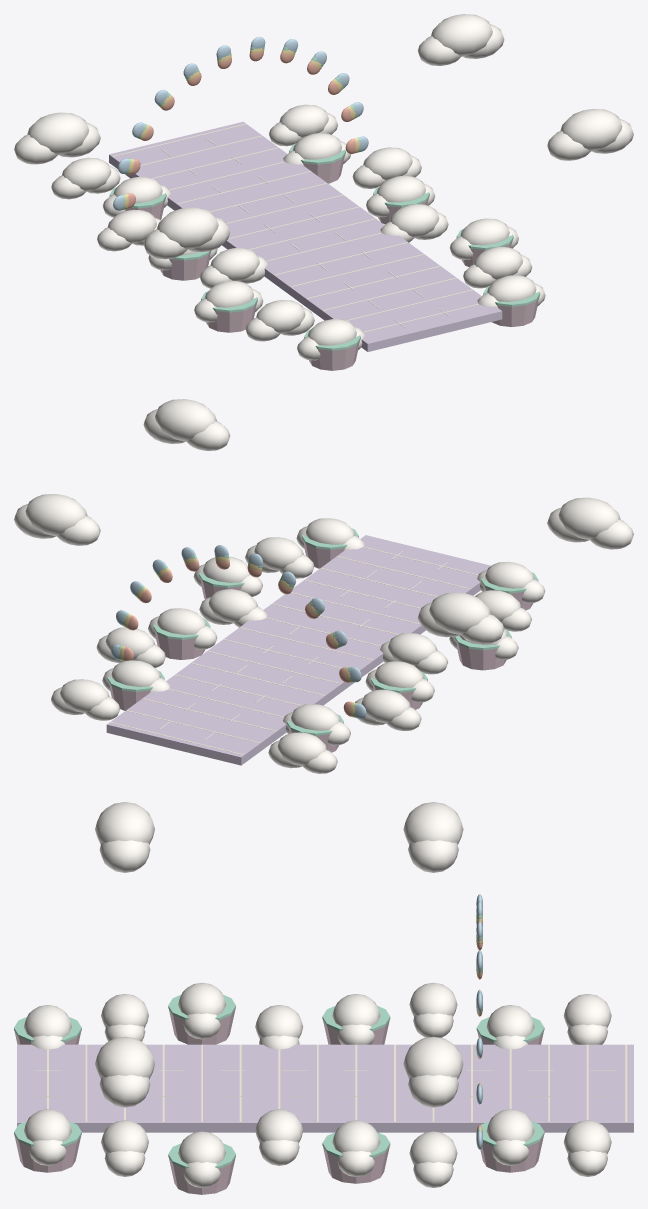
The model's file is hi3d-runner-clouds-0.glb.
3 views of the same model, one above another, from view 1: azimuth 30°, elevation 25°; view 2: azimuth 150°, elevation 25°; view 3: azimuth 270°, elevation 25° (orthographic). The views are drawn at different scales.
Parts seen in each view (by area): view 1: ENV_MAT_white.004, ENV_MAT_lilac, ENV_MAT_pink.002, ENV_MAT_cream.005, ENV_MAT_mint.001, ENV_MAT_blue, ENV_MAT_coral.001, ENV_MAT_gold.005; view 2: ENV_MAT_white.004, ENV_MAT_lilac, ENV_MAT_pink.002, ENV_MAT_cream.005, ENV_MAT_mint.001, ENV_MAT_blue, ENV_MAT_coral.001, ENV_MAT_gold.005; view 3: ENV_MAT_white.004, ENV_MAT_lilac, ENV_MAT_pink.002, ENV_MAT_mint.001, ENV_MAT_cream.005, ENV_MAT_blue.
Part boxes in pixels (box(x1,y1,x2,y2)): ENV_MAT_white.004: box(14, 14, 633, 360); ENV_MAT_lilac: box(109, 121, 502, 351); ENV_MAT_pink.002: box(125, 154, 539, 370); ENV_MAT_cream.005: box(112, 123, 478, 332); ENV_MAT_mint.001: box(109, 46, 540, 350); ENV_MAT_blue: box(113, 37, 368, 210); ENV_MAT_coral.001: box(127, 52, 355, 208); ENV_MAT_gold.005: box(124, 48, 359, 209); ENV_MAT_white.004: box(14, 399, 633, 773); ENV_MAT_lilac: box(106, 535, 490, 765); ENV_MAT_pink.002: box(108, 539, 533, 752); ENV_MAT_cream.005: box(110, 546, 478, 754); ENV_MAT_mint.001: box(107, 528, 538, 735); ENV_MAT_blue: box(111, 545, 366, 718); ENV_MAT_coral.001: box(124, 560, 352, 716); ENV_MAT_gold.005: box(119, 556, 355, 717); ENV_MAT_white.004: box(24, 802, 615, 1187); ENV_MAT_lilac: box(17, 1044, 633, 1132); ENV_MAT_pink.002: box(14, 1009, 543, 1194); ENV_MAT_mint.001: box(14, 914, 544, 1168); ENV_MAT_cream.005: box(47, 1044, 627, 1122); ENV_MAT_blue: box(476, 894, 482, 1149).
Bounding box in the file's own units: 43.4 × 14.09 × 40.2.
